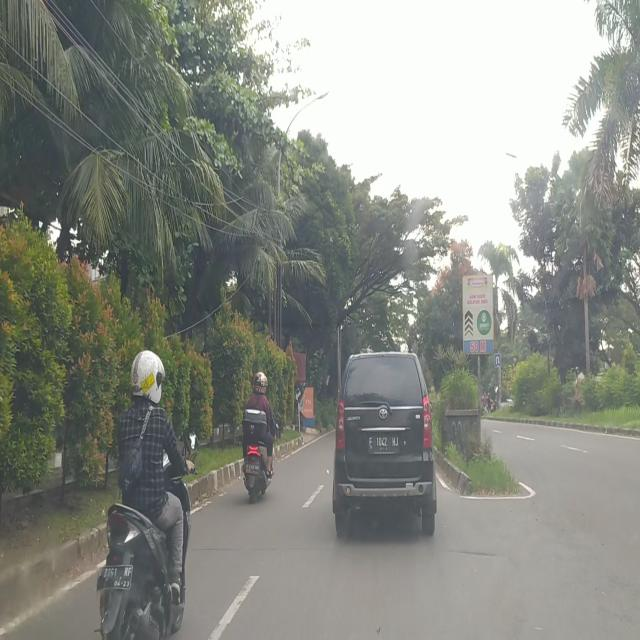Sewer Cover: (456, 546, 502, 560)
